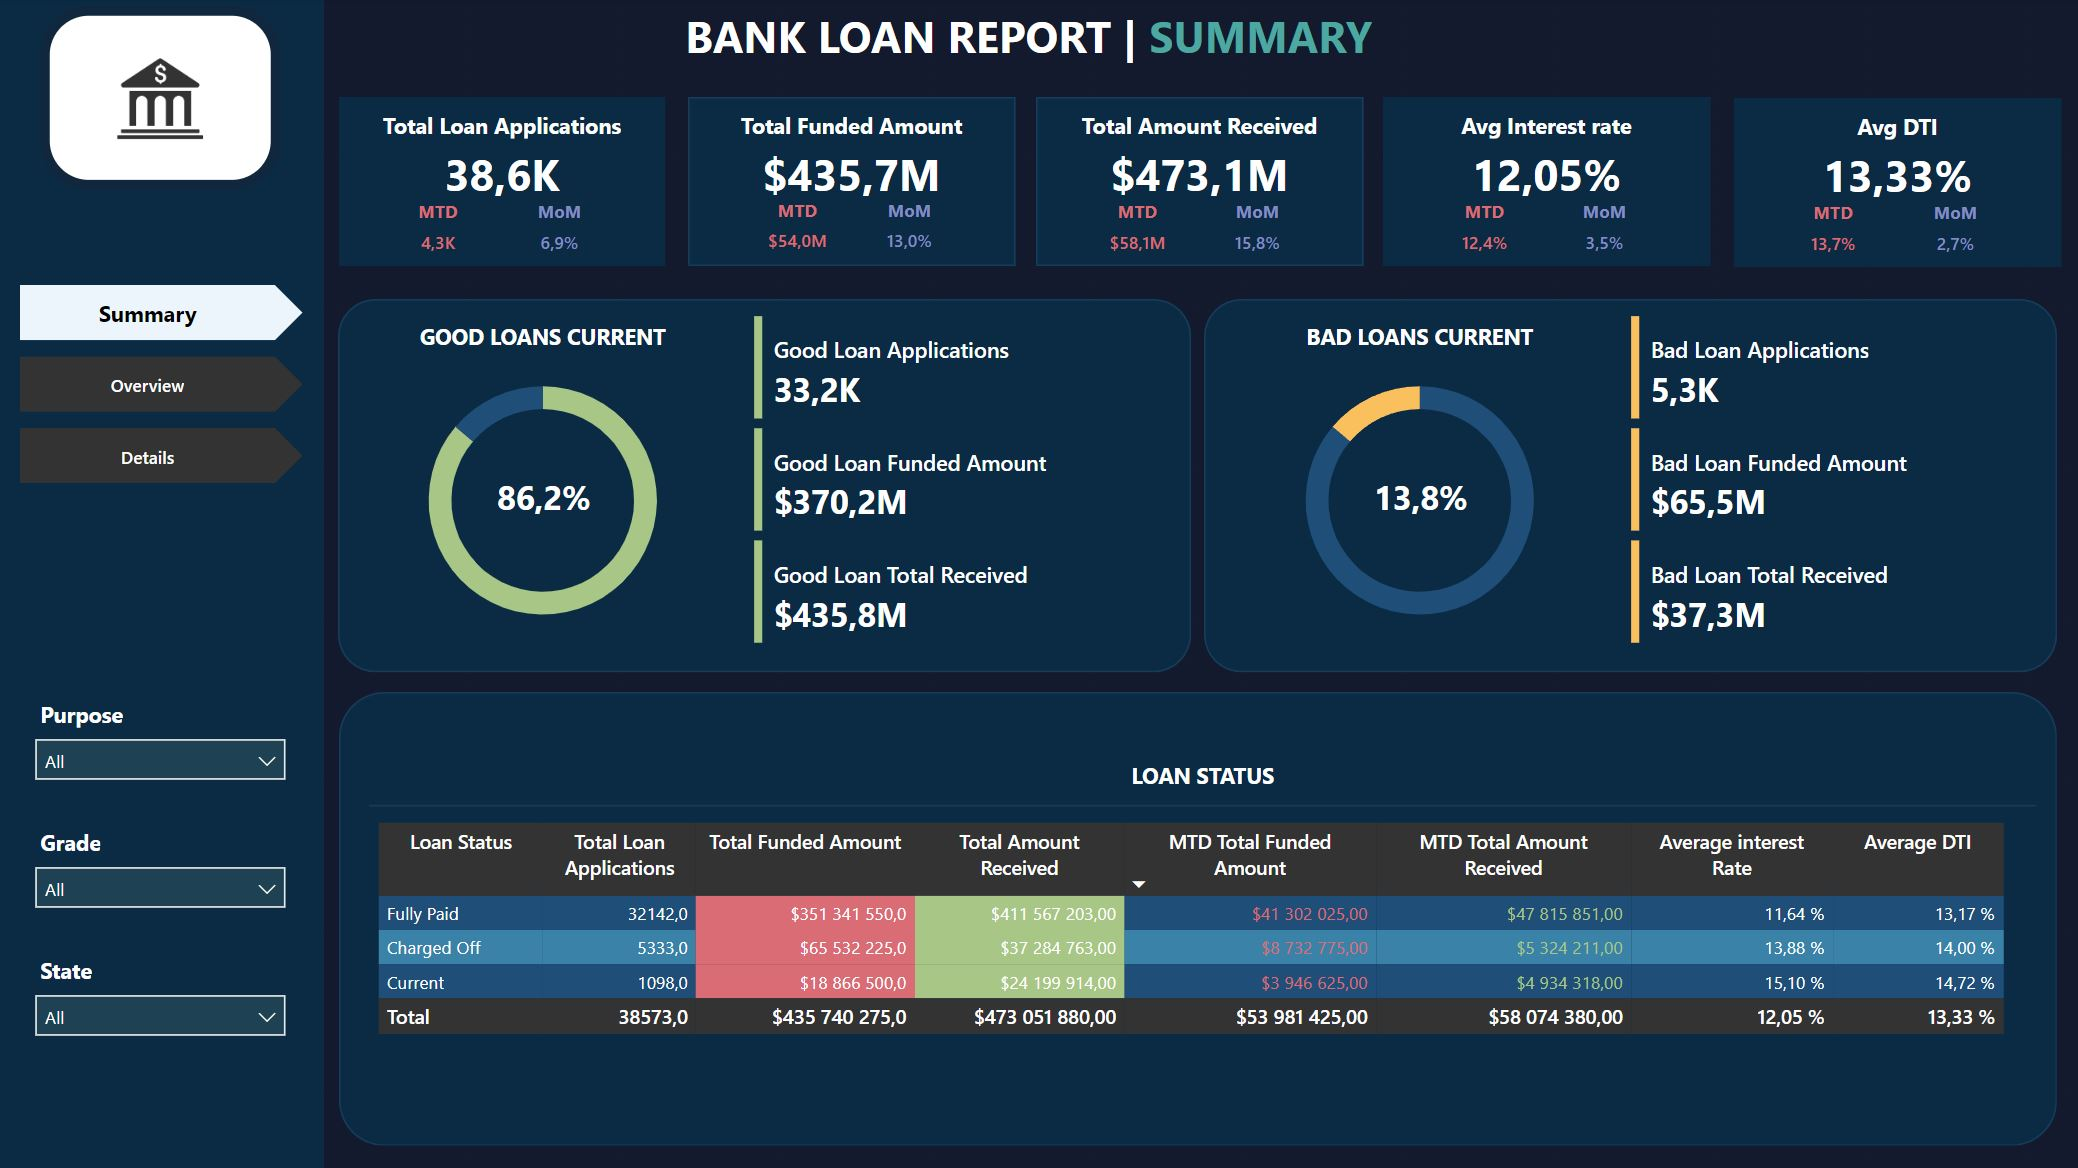

The dashboard page shown, as its layout file describes it:
{"tool":"powerbi","page":{"name":"Summary","canvas":[1280,720],"ordinal":0},"visuals":[{"type":"shape","title":"Total Loan Applications","box":[209.4,61.2,200.7,104.1],"z":0,"group":"g5"},{"type":"shape","title":"Total Loan Applications","box":[423.8,61.2,201.6,104.1],"z":0,"group":"g1"},{"type":"shape","title":"Total Loan Applications","box":[637.9,61.2,201.6,104.1],"z":0,"group":"g2"},{"type":"shape","title":"Total Loan Applications","box":[851.9,61.2,201.6,104.1],"z":0,"group":"g3"},{"type":"shape","title":"Total Loan Applications","box":[1067.7,61.4,201.6,104.1],"z":0,"group":"g4"},{"type":"shape","box":[208.6,185.4,525,229.7],"z":0},{"type":"donutChart","title":"GOOD LOANS CURRENT","fields":{"Category":["bank_loan_data.Good Loan v Bad Loan"],"Y":["bank_loan_data.Total Loan Applications"]},"box":[227.8,199.3,213.8,202.6],"z":0,"group":"g6"},{"type":"donutChart","title":"BAD LOANS CURRENT","fields":{"Category":["bank_loan_data.Good Loan v Bad Loan"],"Y":["bank_loan_data.Total Loan Applications"]},"box":[767.3,199.3,213.8,202.6],"z":0,"group":"g7"},{"type":"card","title":"Total Loan Applications","fields":{"Values":["bank_loan_data.Total Loan Applications"]},"box":[209.1,69.8,200.6,68.3],"z":1000,"group":"g5"},{"type":"card","title":"Total Funded Amount","fields":{"Values":["bank_loan_data.Total_Funded_Amount"]},"box":[423.9,69.8,201.2,68.3],"z":1000,"group":"g1"},{"type":"card","title":"Total Amount Received","fields":{"Values":["bank_loan_data.Total Amount Received"]},"box":[637.9,69.8,201.2,68.3],"z":1000,"group":"g2"},{"type":"card","title":"Avg Interest rate","fields":{"Values":["bank_loan_data.Average interest Rate"]},"box":[851.9,69.8,201.2,68.3],"z":1000,"group":"g3"},{"type":"card","title":"Avg DTI","fields":{"Values":["bank_loan_data.Average DTI"]},"box":[1067.8,69.9,201.2,68.3],"z":1000,"group":"g4"},{"type":"card","title":"Avg Interest rate","fields":{"Values":["bank_loan_data.Good Loans Percentage"]},"box":[294.7,278.8,80.8,60.2],"z":1000,"group":"g6"},{"type":"card","title":"Avg Interest rate","fields":{"Values":["bank_loan_data.Bad Loans Percentage"]},"box":[834.2,278.8,80.8,60.2],"z":1000,"group":"g7"},{"type":"shape","box":[0,0,200,720.6],"z":2000},{"type":"card","title":"MTD","fields":{"Values":["bank_loan_data.MTD Funded Amount"]},"box":[466.1,122.5,50,39.7],"z":2000,"group":"g1"},{"type":"card","title":"MTD","fields":{"Values":["bank_loan_data.MTD Loan Applications"]},"box":[249.3,123.3,41.9,38.7],"z":2000,"group":"g5"},{"type":"card","title":"MTD","fields":{"Values":["bank_loan_data.MTD Total Amount Received"]},"box":[678.1,123.3,45,38.7],"z":2000,"group":"g2"},{"type":"card","title":"MTD","fields":{"Values":["bank_loan_data.MTD Avg Interest rate"]},"box":[892.1,123.3,45,38.7],"z":2000,"group":"g3"},{"type":"card","title":"MTD","fields":{"Values":["bank_loan_data.MTD Avg DTI"]},"box":[1107.9,123.5,42.1,38.7],"z":2000,"group":"g4"},{"type":"cardVisual","fields":{"Data":["bank_loan_data.Good Loan Applications","bank_loan_data.Good Loan Funded Amount","bank_loan_data.Good Loan Total Received"]},"box":[459.5,190.7,242.3,211.2],"z":2000,"group":"g6"},{"type":"cardVisual","fields":{"Data":["bank_loan_data.Bad Loan Applications","bank_loan_data.Bad Loan Funded Amount","bank_loan_data.Bad Loan Total Received"]},"box":[999,190.7,242.3,211.2],"z":2000,"group":"g7"},{"type":"textbox","title":"BANK LOAN REPORT | SUMMARY","box":[417.2,0,445.5,46.8],"z":3000},{"type":"card","title":"MoM","fields":{"Values":["bank_loan_data.MoM Total Funded Amount"]},"box":[537.6,122.5,45,39.7],"z":3000,"group":"g1"},{"type":"card","title":"MoM","fields":{"Values":["bank_loan_data.MoM Loan Applications"]},"box":[322.6,123.4,45,38.7],"z":3000,"group":"g5"},{"type":"card","title":"MoM","fields":{"Values":["bank_loan_data.MoM Total Amount Received"]},"box":[751.7,123.4,45,38.7],"z":3000,"group":"g2"},{"type":"card","title":"MoM","fields":{"Values":["bank_loan_data.MoM Avg Interest Rate"]},"box":[965.7,123.4,45,38.7],"z":3000,"group":"g3"},{"type":"card","title":"MoM","fields":{"Values":["bank_loan_data.MoM Avg DTI"]},"box":[1181.5,123.6,45,38.7],"z":3000,"group":"g4"},{"type":"group","id":"g1","title":"Total Loan Applications ","box":[423.8,61.2,201.6,104.1],"z":4000},{"type":"group","id":"g2","title":"Total Loan Applications ","box":[637.9,61.2,201.6,104.1],"z":5000},{"type":"group","id":"g3","title":"Total Loan Applications ","box":[851.9,61.2,201.6,104.1],"z":6000},{"type":"group","id":"g4","title":"Total Loan Applications ","box":[1067.7,61.4,201.6,104.1],"z":7000},{"type":"group","id":"g5","title":"Total Loan Applications ","box":[209.1,61.2,200.9,104.1],"z":8000},{"type":"shape","box":[741.5,185.4,525,229.7],"z":9000},{"type":"group","id":"g6","title":"Good Loans","box":[227.8,190.7,474,211.2],"z":10000},{"type":"group","id":"g7","title":"Good Loans","box":[767.3,190.7,474,211.2],"z":11000},{"type":"shape","box":[209.2,427,1057.3,279.4],"z":12000},{"type":"tableEx","title":"LOAN STATUS","fields":{"Values":["bank_loan_data.loan_status","bank_loan_data.Total Loan Applications","bank_loan_data.Total Funded Amount","bank_loan_data.Total Amount Received","bank_loan_data.MTD Total Funded Amount","bank_loan_data.MTD Total Amount Received","bank_loan_data.Average interest Rate","bank_loan_data.Average DTI"]},"box":[227.8,469.4,1026.2,188],"z":13000},{"type":"slicer","fields":{"Values":["bank_loan_data.address_state"]},"box":[12.6,584.6,174.1,72.8],"z":14000},{"type":"slicer","fields":{"Values":["bank_loan_data.grade"]},"box":[12.6,505.8,174.1,72.8],"z":15000},{"type":"slicer","fields":{"Values":["bank_loan_data.purpose"]},"box":[12.6,427,174.1,72.8],"z":16000},{"type":"image","box":[25.2,4.9,148.3,113.2],"z":16002},{"type":"pageNavigator","box":[12.9,176.6,174.2,122.5],"z":16003}]}

Visuals, with their boxes in screenshot pixels (x1, y1, x2, y2), scaled from the page's 1280x720 canvas onto the 2078x1168 screenshot:
"Total Loan Applications" shape: [left=340, top=99, right=666, bottom=268]
"Total Loan Applications" shape: [left=688, top=99, right=1015, bottom=268]
"Total Loan Applications" shape: [left=1036, top=99, right=1363, bottom=268]
"Total Loan Applications" shape: [left=1383, top=99, right=1710, bottom=268]
"Total Loan Applications" shape: [left=1733, top=100, right=2061, bottom=268]
shape: [left=339, top=301, right=1191, bottom=673]
"GOOD LOANS CURRENT" donutChart: [left=370, top=323, right=717, bottom=652]
"BAD LOANS CURRENT" donutChart: [left=1246, top=323, right=1593, bottom=652]
"Total Loan Applications" card: [left=339, top=113, right=665, bottom=224]
"Total Funded Amount" card: [left=688, top=113, right=1015, bottom=224]
"Total Amount Received" card: [left=1036, top=113, right=1362, bottom=224]
"Avg Interest rate" card: [left=1383, top=113, right=1710, bottom=224]
"Avg DTI" card: [left=1734, top=113, right=2060, bottom=224]
"Avg Interest rate" card: [left=478, top=452, right=610, bottom=550]
"Avg Interest rate" card: [left=1354, top=452, right=1485, bottom=550]
shape: [left=0, top=0, right=325, bottom=1167]
"MTD" card: [left=757, top=199, right=838, bottom=263]
"MTD" card: [left=405, top=200, right=473, bottom=263]
"MTD" card: [left=1101, top=200, right=1174, bottom=263]
"MTD" card: [left=1448, top=200, right=1521, bottom=263]
"MTD" card: [left=1799, top=200, right=1867, bottom=263]
cardVisual - bank_loan_data.Good Loan Applications x bank_loan_data.Good Loan Funded Amount: [left=746, top=309, right=1139, bottom=652]
cardVisual - bank_loan_data.Bad Loan Applications x bank_loan_data.Bad Loan Funded Amount: [left=1622, top=309, right=2015, bottom=652]
"BANK LOAN REPORT | SUMMARY" textbox: [left=677, top=0, right=1401, bottom=76]
"MoM" card: [left=873, top=199, right=946, bottom=263]
"MoM" card: [left=524, top=200, right=597, bottom=263]
"MoM" card: [left=1220, top=200, right=1293, bottom=263]
"MoM" card: [left=1568, top=200, right=1641, bottom=263]
"MoM" card: [left=1918, top=201, right=1991, bottom=263]
"Total Loan Applications " group: [left=688, top=99, right=1015, bottom=268]
"Total Loan Applications " group: [left=1036, top=99, right=1363, bottom=268]
"Total Loan Applications " group: [left=1383, top=99, right=1710, bottom=268]
"Total Loan Applications " group: [left=1733, top=100, right=2061, bottom=268]
"Total Loan Applications " group: [left=339, top=99, right=666, bottom=268]
shape: [left=1204, top=301, right=2056, bottom=673]
"Good Loans" group: [left=370, top=309, right=1139, bottom=652]
"Good Loans" group: [left=1246, top=309, right=2015, bottom=652]
shape: [left=340, top=693, right=2056, bottom=1146]
"LOAN STATUS" tableEx: [left=370, top=761, right=2036, bottom=1066]
slicer - bank_loan_data.address_state: [left=20, top=948, right=303, bottom=1066]
slicer - bank_loan_data.grade: [left=20, top=821, right=303, bottom=939]
slicer - bank_loan_data.purpose: [left=20, top=693, right=303, bottom=811]
image: [left=41, top=8, right=282, bottom=192]
pageNavigator: [left=21, top=286, right=304, bottom=485]
